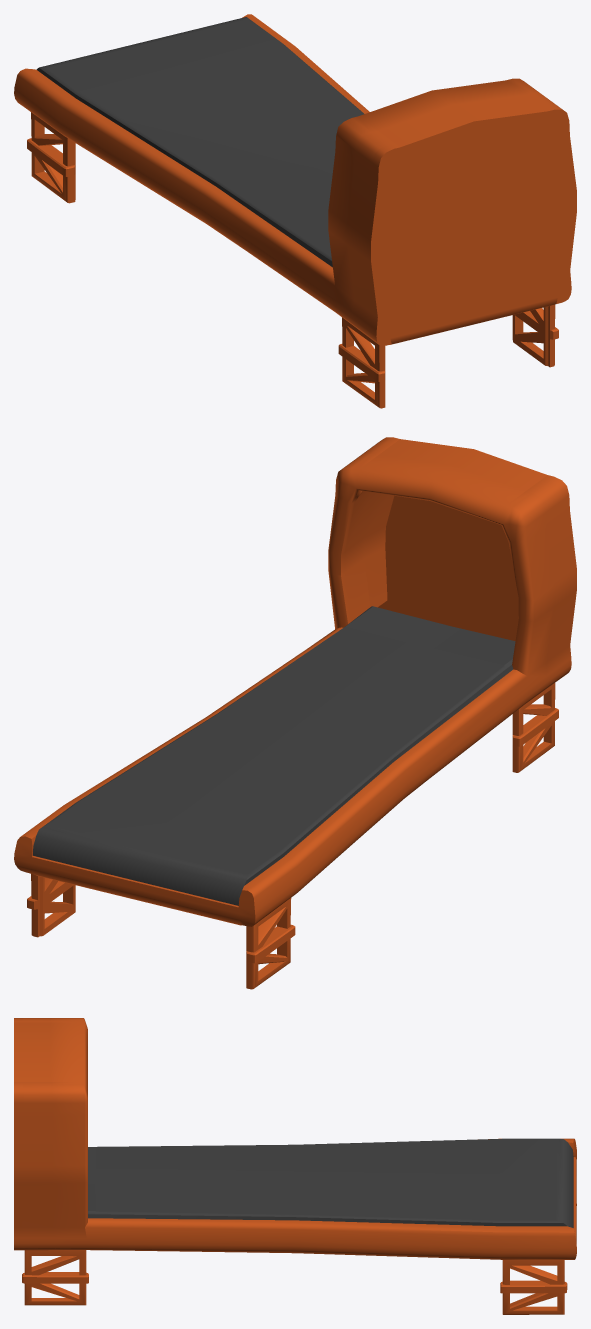
File: Conveyor_End.fbx
3 renders of one model, top to bottom at view 1: azimuth 30°, elevation 25°; view 2: azimuth 150°, elevation 25°; view 3: azimuth 270°, elevation 25°, orthographic. The views are drawn at different scales.
Visible parts, largest first — view 1: Conveyor_End; view 2: Conveyor_End; view 3: Conveyor_End.
Boxes of the visible parts, x1,y1,x2,y2 form: Conveyor_End: [14, 14, 576, 408]; Conveyor_End: [14, 437, 576, 989]; Conveyor_End: [14, 1018, 576, 1314].
Size of the model in its own units: 3.87 by 4.15 by 9.42.
